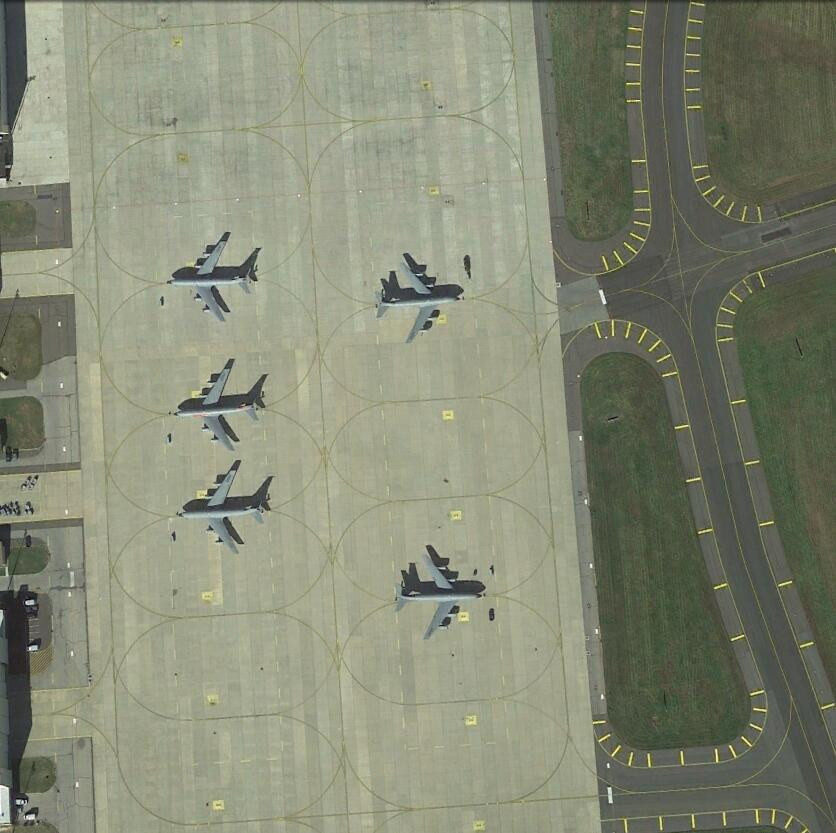A14: (175, 462, 275, 559), (177, 362, 268, 451), (169, 238, 260, 325), (394, 554, 485, 640), (375, 263, 461, 348)
